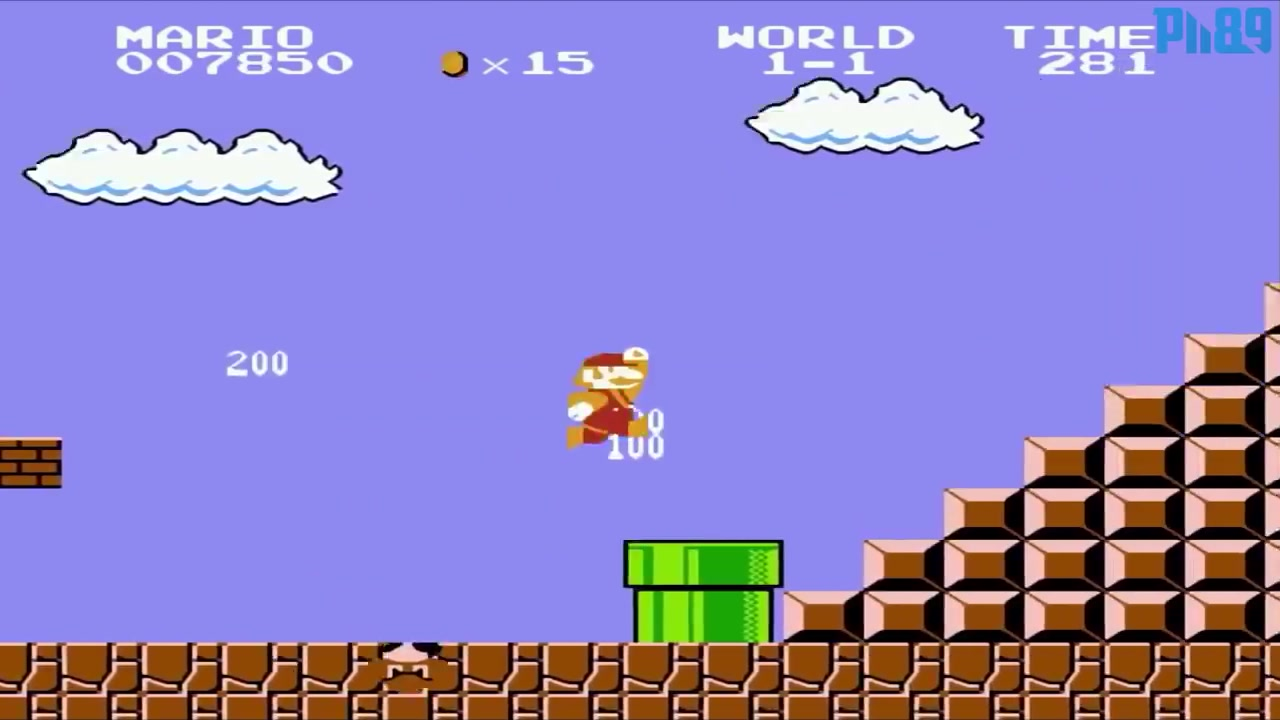mario: (555, 341, 675, 451)
